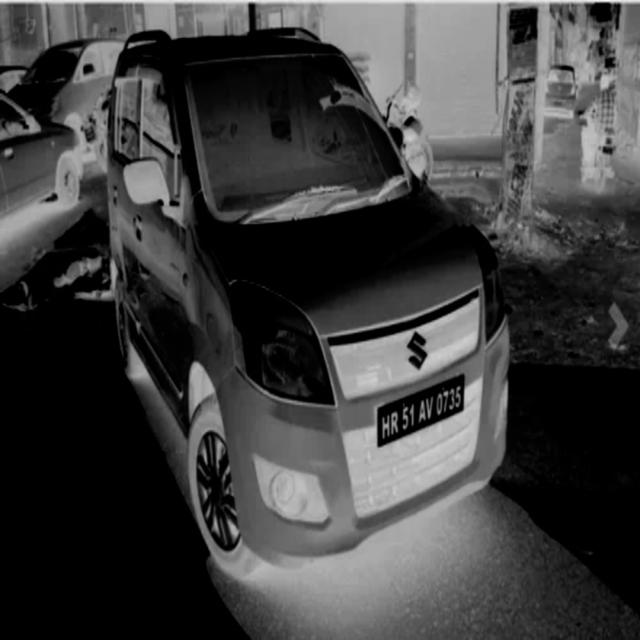Non_registered: (378, 370, 466, 446)
